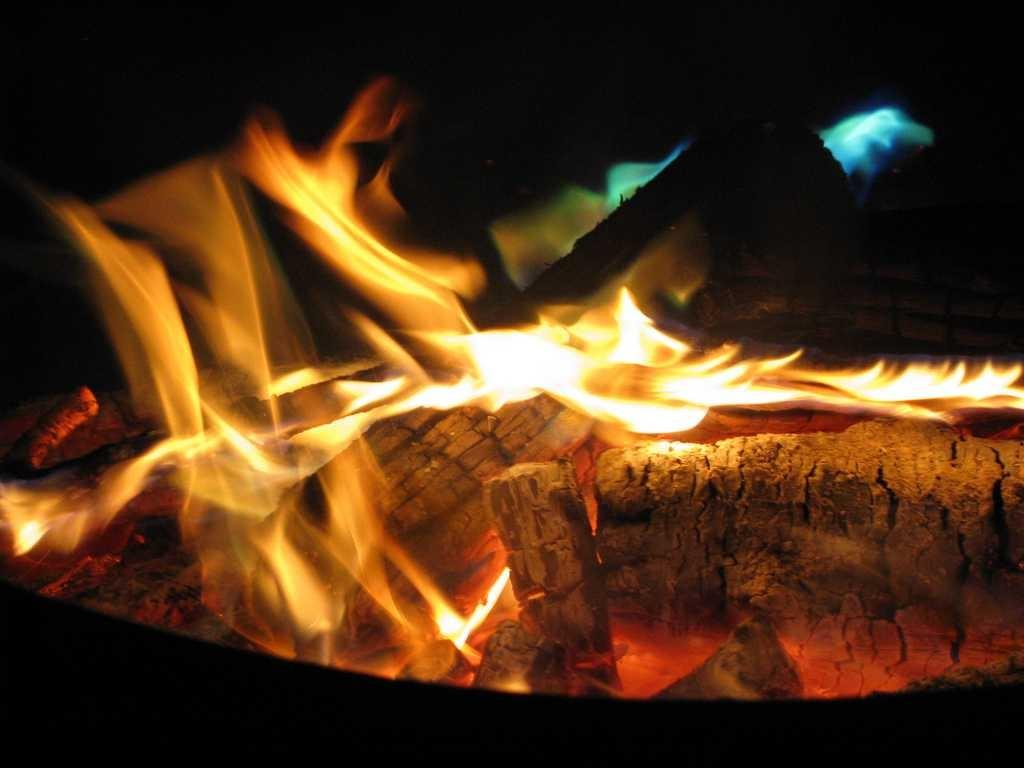fire: (144, 257, 1013, 556)
